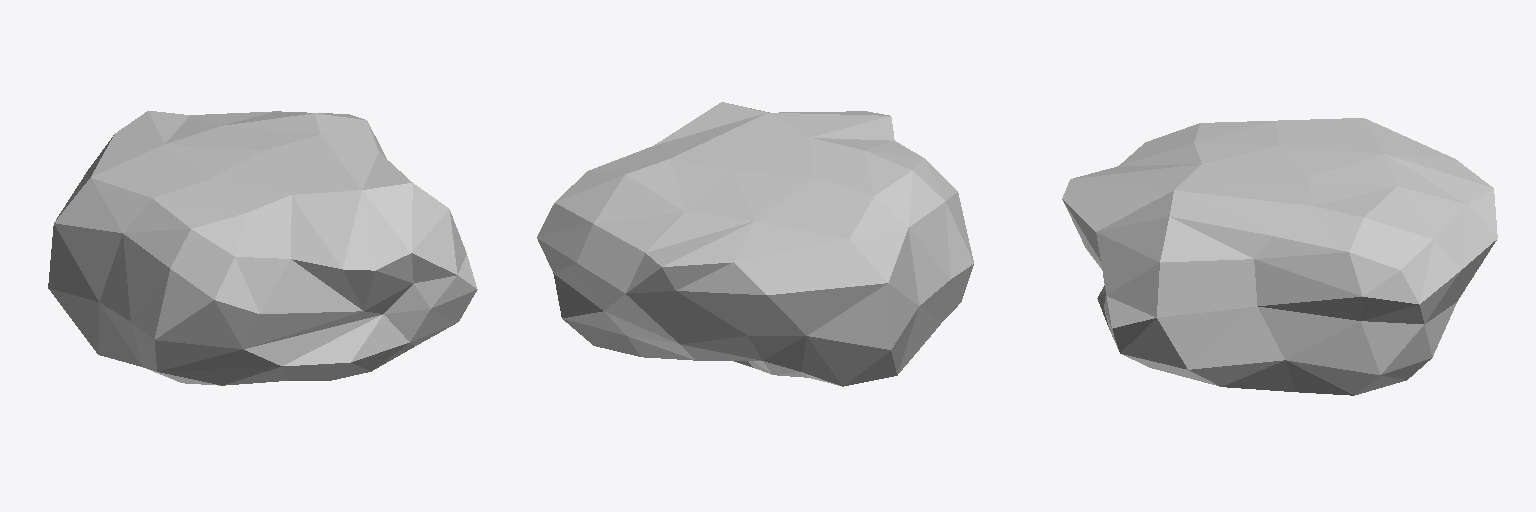
The model's file is Rock01.obj.
3 views of the same model, side by side, from view 1: azimuth 30°, elevation 25°; view 2: azimuth 150°, elevation 25°; view 3: azimuth 270°, elevation 25° (orthographic).
Parts seen in each view (by area): view 1: Cube.001; view 2: Cube.001; view 3: Cube.001.
Part boxes in pixels (left/top/right/bottom): Cube.001: left=48, top=111, right=477, bottom=385; Cube.001: left=537, top=102, right=973, bottom=386; Cube.001: left=1062, top=118, right=1497, bottom=395.
Bounding box in the file's own units: 3.18 × 1.68 × 3.63.